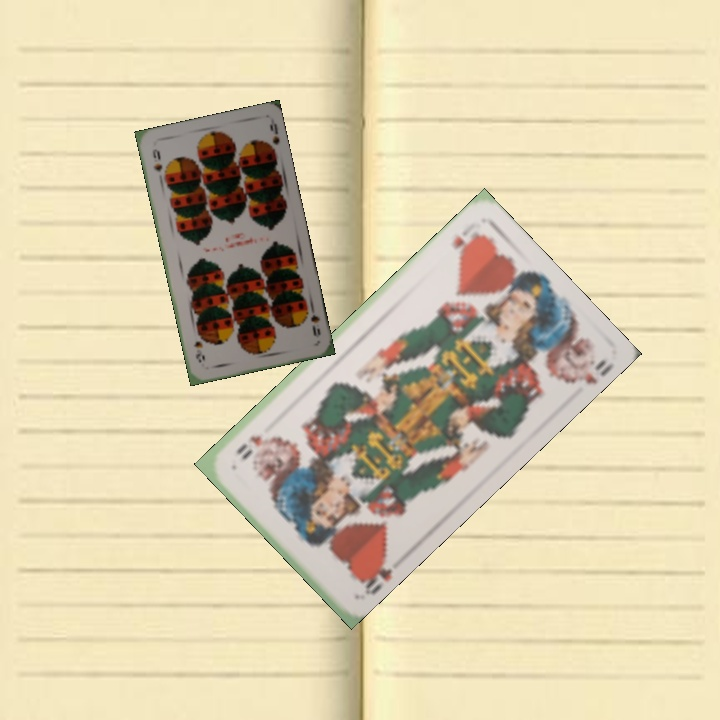HO: (355, 549, 395, 598), (447, 227, 486, 252)
S9: (306, 301, 323, 338), (148, 145, 165, 174)
